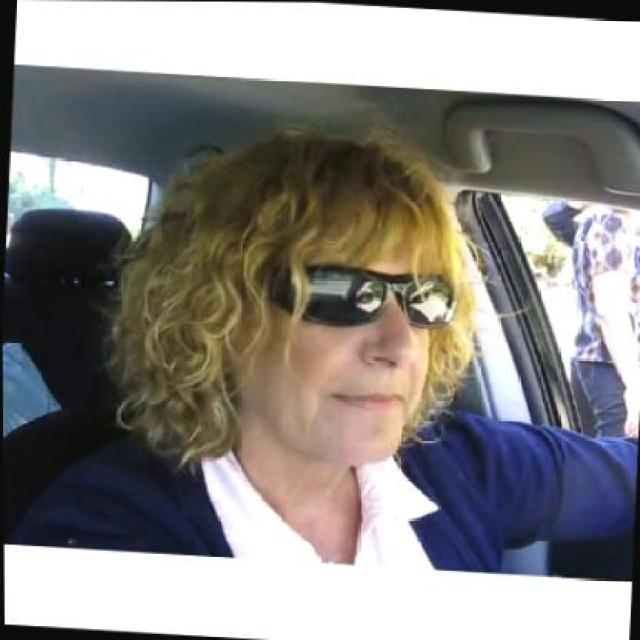attentif: (226, 125, 466, 470)
